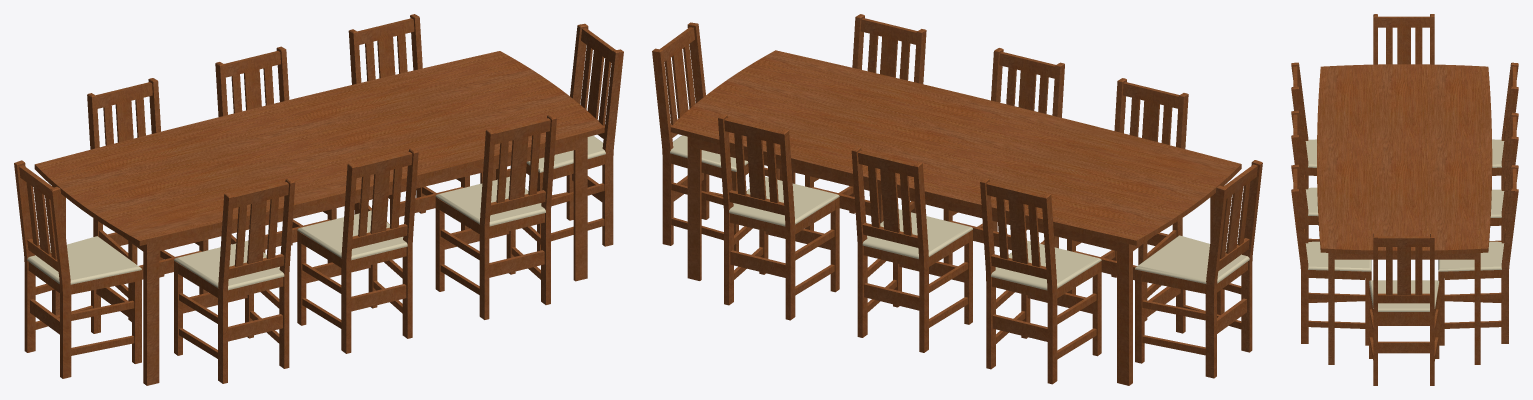
The model's file is Dining-Room-Set.fbx.
The picture shows the model from 3 angles, left to right: view 1: azimuth 30°, elevation 25°; view 2: azimuth 150°, elevation 25°; view 3: azimuth 270°, elevation 25°; orthographic projection. The views are drawn at different scales.
Parts seen in each view (by area): view 1: Group1, Chair6, Chair4, Chair5, Chair7, Chair8, Chair1, Chair2, Chair3, Group36, Group26, Group31 (+4 smaller); view 2: Group1, Chair2, Chair1, Chair3, Chair7, Chair8, Chair5, Chair4, Chair6, Group36, Group16, Group6 (+4 smaller); view 3: Group1, Chair8, Chair2, Chair4, Chair7, Group41, Group11, Group21, Chair6, Chair3, Chair1, Chair5 (+8 smaller).
Boxes of the visible parts, <box> form: Group1: <box>34,51,604,385</box>; Chair6: <box>297,148,418,353</box>; Chair4: <box>435,114,556,319</box>; Chair5: <box>174,178,295,383</box>; Chair7: <box>14,160,141,378</box>; Chair8: <box>496,23,623,251</box>; Chair1: <box>87,78,208,321</box>; Chair2: <box>348,14,469,230</box>; Chair3: <box>215,46,336,263</box>; Group36: <box>27,236,141,284</box>; Group26: <box>174,240,284,290</box>; Group31: <box>297,210,407,260</box>; Group1: <box>670,50,1241,385</box>; Chair2: <box>718,114,839,320</box>; Chair1: <box>980,177,1101,384</box>; Chair3: <box>851,146,972,352</box>; Chair7: <box>1135,160,1262,378</box>; Chair8: <box>652,22,779,251</box>; Chair5: <box>1067,78,1188,321</box>; Chair4: <box>805,14,926,230</box>; Chair6: <box>943,48,1064,264</box>; Group36: <box>1135,235,1249,283</box>; Group16: <box>862,209,972,258</box>; Group6: <box>991,240,1101,290</box>; Group1: <box>1317,64,1492,364</box>; Chair8: <box>1369,233,1439,385</box>; Chair2: <box>1438,165,1518,345</box>; Chair4: <box>1291,164,1371,345</box>; Chair7: <box>1373,14,1434,64</box>; Group41: <box>1369,280,1439,311</box>; Group11: <box>1438,241,1504,271</box>; Group21: <box>1305,241,1371,271</box>; Chair6: <box>1291,110,1318,241</box>; Chair3: <box>1490,112,1518,241</box>; Chair1: <box>1492,62,1518,189</box>; Chair5: <box>1291,62,1316,187</box>.
Bounding box in the file's own units: 117 × 37.32 × 50.1.
